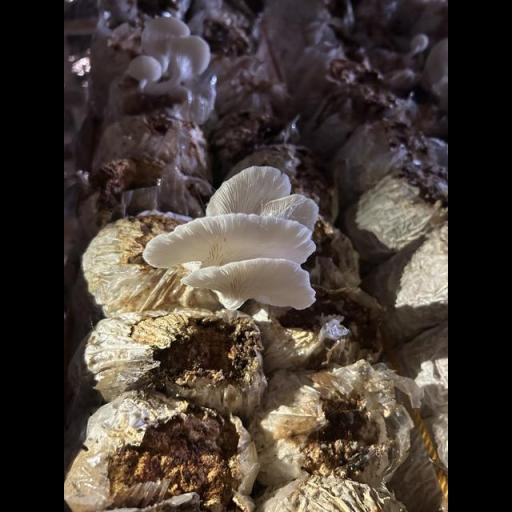White Oyster Mushroom: (144, 156, 328, 323)
